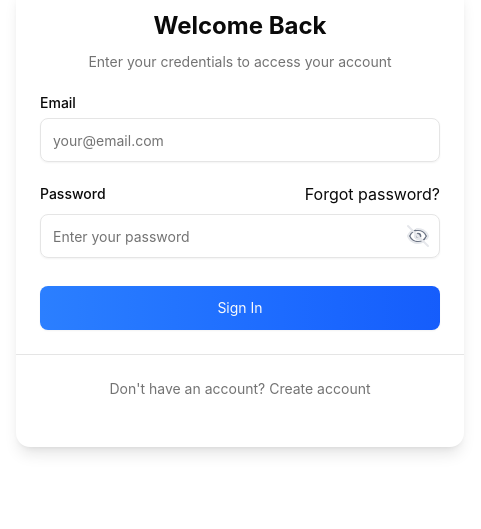
Test: LoginForm › shows translated validation errors and does not submit
Type "a@b" into the field with placeholder "your@email.com".
click(240, 140); type("a@b")  # box [40, 118, 440, 162]
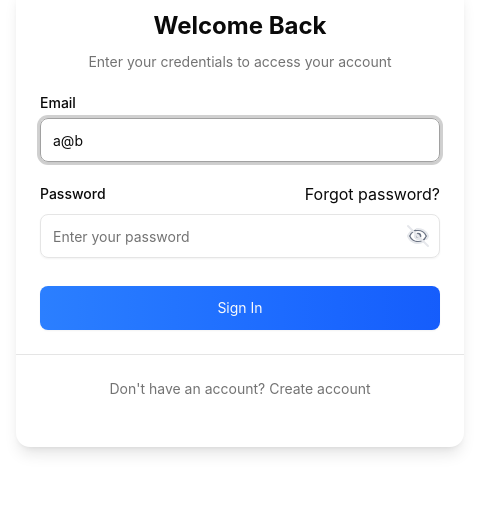
Click the button "Sign In".
click(240, 308)  # box [40, 286, 440, 330]
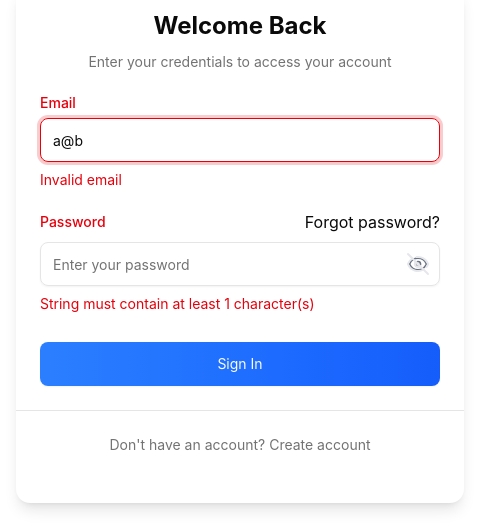
Result: the text "Invalid email" is shown at [40, 171, 122, 188]
